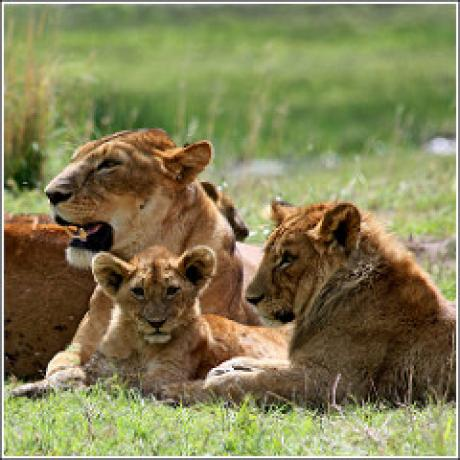Lion: (232, 196, 460, 406), (0, 122, 244, 265), (83, 245, 291, 362)
